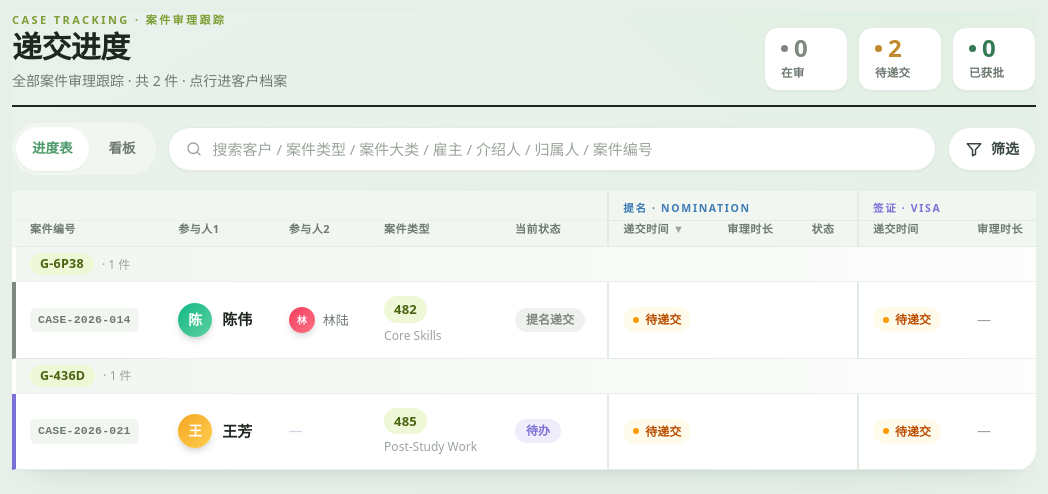
CasesPage — 进度表 / 看板 段控 › 切到「看板」→ 渲染案件卡（含四要素：签证/职位/担保雇主/参与人）
What coordinates should you click on to do the following:
click the button "看板"
I would click on:
 (122, 148)
Its box is [92,126,152,170].
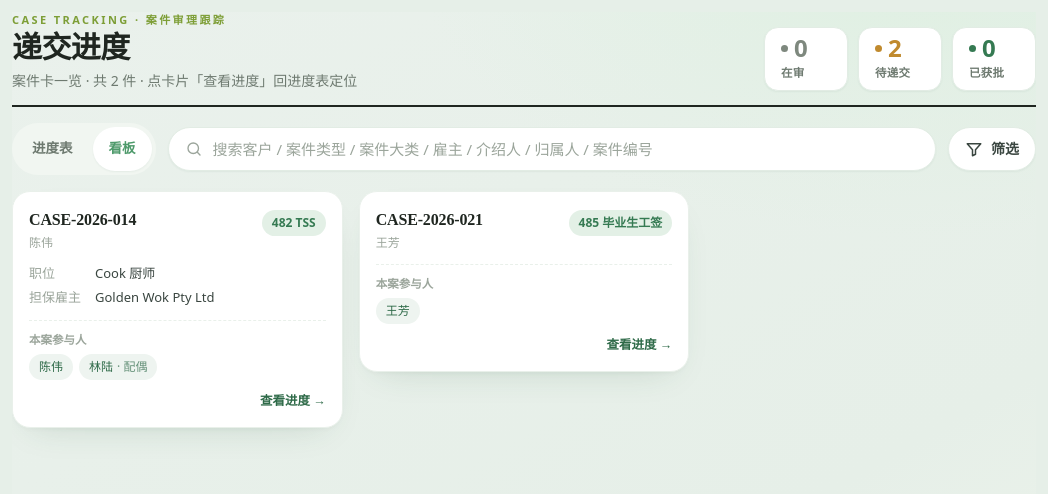
Expected: the text "482 TSS" is shown, [262,210,326,236]
Expected: the text "Cook 厨师" is shown, [95,264,155,282]
Expected: the text "Golden Wok Pty Ltd" is shown, [95,288,214,306]
